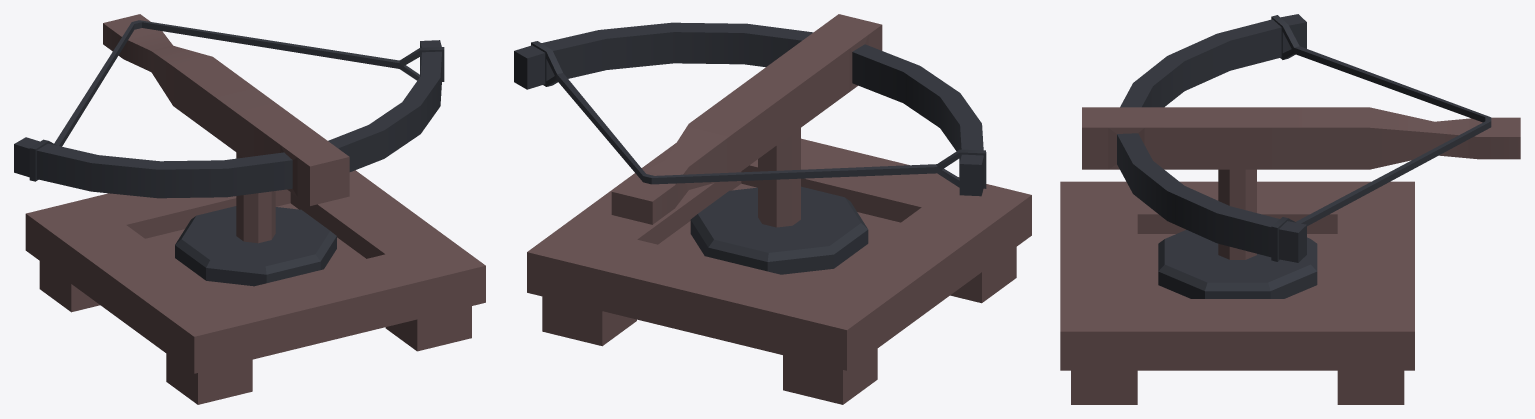
The model's file is Ballista_1.fbx.
3 views of the same model, side by side, from view 1: azimuth 30°, elevation 25°; view 2: azimuth 150°, elevation 25°; view 3: azimuth 270°, elevation 25° (orthographic). The views are drawn at different scales.
Visible parts, largest first — view 1: Base, Ballista; view 2: Base, Ballista; view 3: Base, Ballista.
Boxes of the visible parts, left/top/right/bottom form: Base: left=25, top=170, right=485, bottom=404; Ballista: left=14, top=14, right=444, bottom=286; Base: left=527, top=138, right=1031, bottom=404; Ballista: left=514, top=14, right=986, bottom=274; Base: left=1060, top=181, right=1414, bottom=404; Ballista: left=1082, top=14, right=1520, bottom=298.
Bounding box in the file's own units: 2.41 × 1.11 × 2.14.
